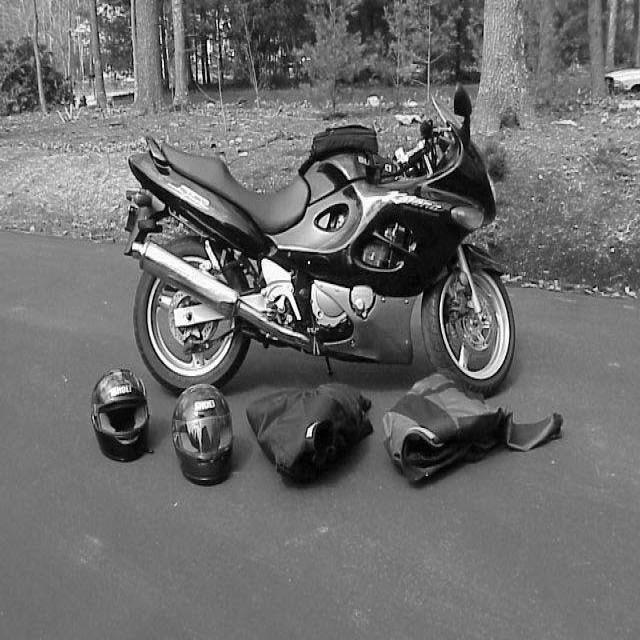Motorcycle: (126, 92, 516, 394)
